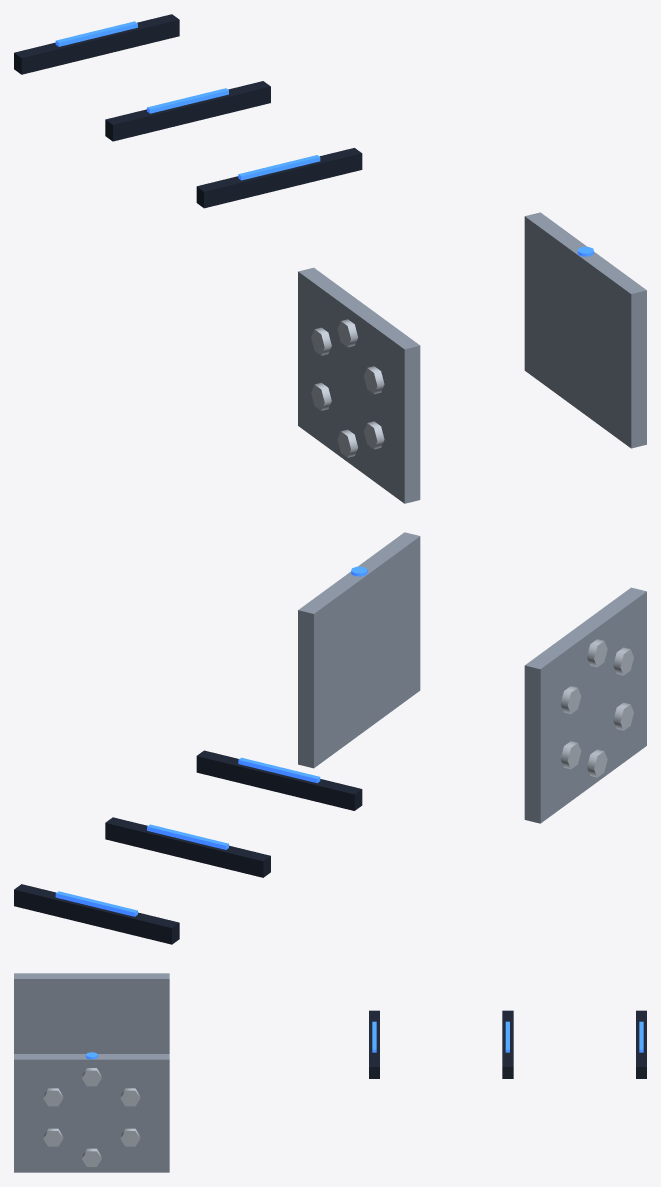
The model's file is tower_lance_damage_s3.glb.
3 renders of one model, top to bottom at view 1: azimuth 30°, elevation 25°; view 2: azimuth 150°, elevation 25°; view 3: azimuth 270°, elevation 25°, orthographic. The views are drawn at different scales.
Parts seen in each view (by area): view 1: lance_breech_cheek_l, lance_breech_cheek_r, lance_rail_strap-0.05, lance_rail_strap0.55, lance_rail_strap1.15, lance_cheek_bolts_l; view 2: lance_breech_cheek_l, lance_breech_cheek_r, lance_rail_strap-0.05, lance_rail_strap0.55, lance_rail_strap1.15, lance_cheek_bolts_l, lance_rail_strap_glow1.15, lance_rail_strap_glow-0.05, lance_rail_strap_glow0.55; view 3: lance_breech_cheek_l, lance_breech_cheek_r, lance_cheek_bolts_r, lance_rail_strap0.55, lance_rail_strap-0.05, lance_rail_strap1.15.
Boxes of the visible parts, left/top/right/bottom form: lance_breech_cheek_l: left=524, top=212, right=646, bottom=448; lance_breech_cheek_r: left=298, top=267, right=420, bottom=503; lance_rail_strap-0.05: left=196, top=148, right=362, bottom=208; lance_rail_strap0.55: left=105, top=81, right=270, bottom=141; lance_rail_strap1.15: left=14, top=14, right=179, bottom=74; lance_cheek_bolts_l: left=311, top=319, right=384, bottom=457; lance_breech_cheek_l: left=298, top=532, right=420, bottom=768; lance_breech_cheek_r: left=524, top=587, right=646, bottom=823; lance_rail_strap-0.05: left=196, top=750, right=362, bottom=810; lance_rail_strap0.55: left=105, top=817, right=270, bottom=877; lance_rail_strap1.15: left=14, top=884, right=179, bottom=944; lance_cheek_bolts_l: left=560, top=639, right=633, bottom=777; lance_rail_strap_glow1.15: left=55, top=891, right=137, bottom=916; lance_rail_strap_glow-0.05: left=238, top=757, right=320, bottom=783; lance_rail_strap_glow0.55: left=147, top=824, right=228, bottom=849; lance_breech_cheek_l: left=14, top=1054, right=169, bottom=1172; lance_breech_cheek_r: left=14, top=973, right=169, bottom=1053; lance_cheek_bolts_r: left=43, top=1068, right=140, bottom=1166; lance_rail_strap0.55: left=502, top=1010, right=513, bottom=1078; lance_rail_strap-0.05: left=369, top=1010, right=379, bottom=1078; lance_rail_strap1.15: left=636, top=1010, right=646, bottom=1078.
Bounding box in the file's own units: 0.974 × 0.571 × 2.84.
